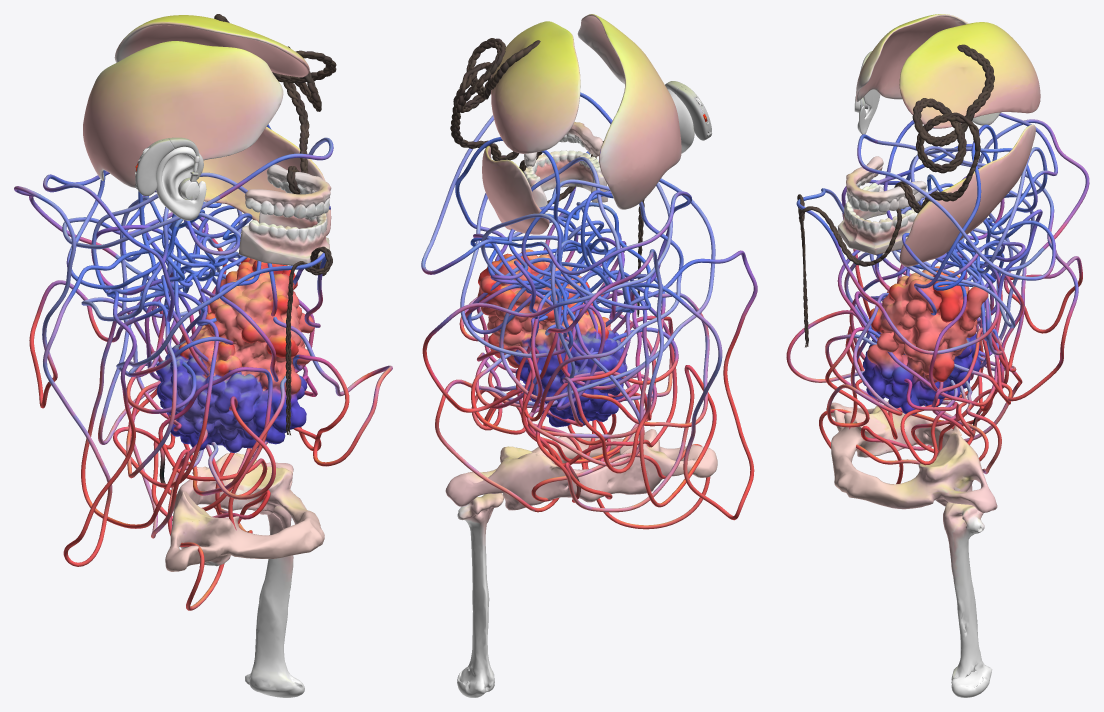
Rendered from Sculpture1.glb.
3 views of the same model, side by side, from view 1: azimuth 30°, elevation 25°; view 2: azimuth 150°, elevation 25°; view 3: azimuth 270°, elevation 25° (orthographic). The views are drawn at different scales.
Visible parts, largest first — view 1: Final; view 2: Final; view 3: Final.
Boxes of the visible parts, left/top/right/bottom form: Final: left=14, top=14, right=392, bottom=697; Final: left=421, top=14, right=757, bottom=697; Final: left=786, top=14, right=1089, bottom=697.
Size of the model in its own units: 0.4594 by 1 by 0.4393.
1 material, 1 textured.
